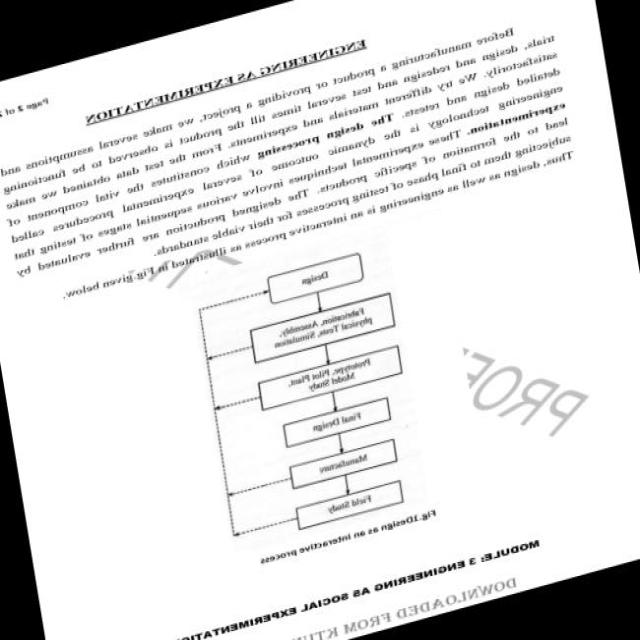Figure Detection - v3 Dataset Version2: (168, 230, 447, 564)
